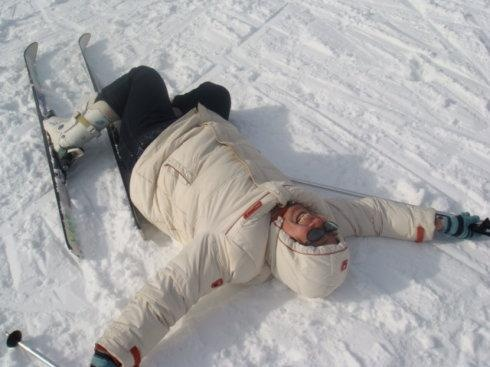falling: (36, 47, 490, 361)
